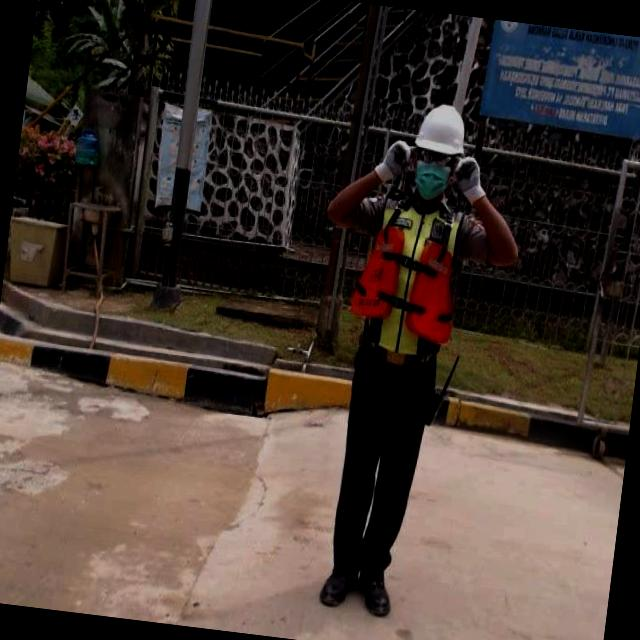vest: (344, 193, 467, 358)
